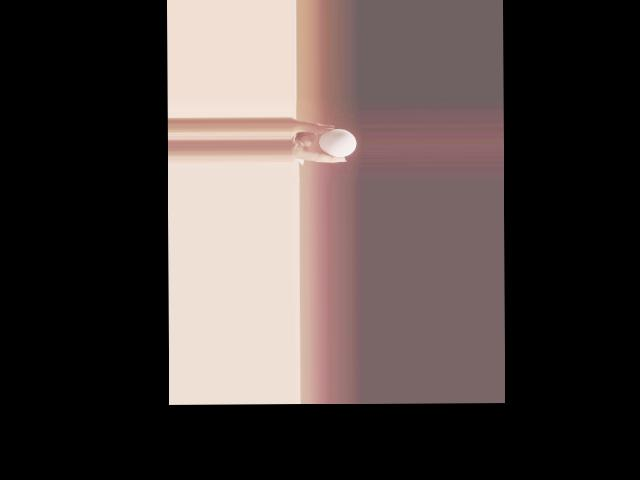egg: (318, 128, 356, 156)
